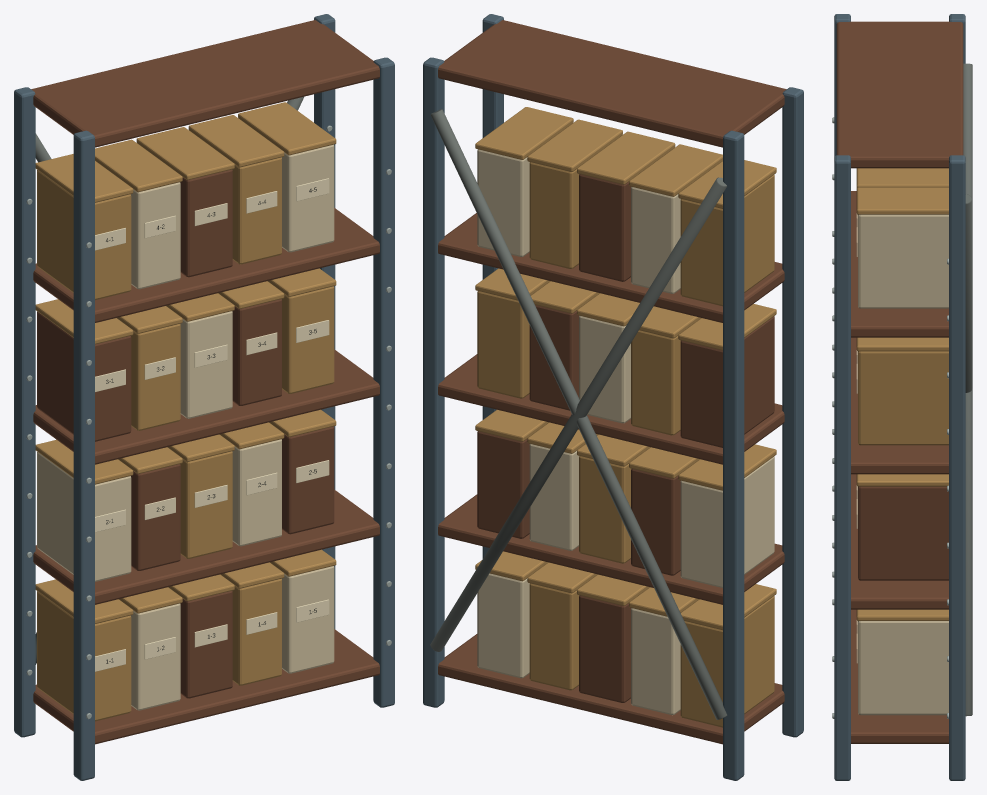
File: ArchiveShelving.fbx
3 renders of one model, left to right at view 1: azimuth 30°, elevation 25°; view 2: azimuth 150°, elevation 25°; view 3: azimuth 270°, elevation 25°, orthographic. The views are drawn at different scales.
Parts seen in each view (by area): view 1: Shelf plank.004, Angle iron upright, Angle iron upright.001, Angle iron upright.002, Shelf plank, Shelf plank.001, Shelf plank.002, Shelf plank.003, Archive carton.005, Archive carton.010, Archive carton, Archive carton.015 (+37 smaller); view 2: Shelf plank.004, Angle iron upright.001, Angle iron upright, Angle iron upright.003, Diagonal back brace, Diagonal back brace.001, Archive carton.005, Archive carton.010, Archive carton.015, Shelf plank, Shelf plank.002, Archive carton (+39 smaller); view 3: Shelf plank.004, Angle iron upright.003, Angle iron upright.002, Archive carton.019, Archive carton.004, Archive carton.009, Archive carton.014, Diagonal back brace.001, Shelf plank.003, Shelf plank.002, Shelf plank.001, Shelf plank (+7 smaller).
Part boxes in pixels (x1,y1,x2,y2): Shelf plank.004: [31, 20, 379, 147]; Angle iron upright: [73, 130, 94, 780]; Angle iron upright.001: [14, 87, 35, 737]; Angle iron upright.002: [373, 57, 394, 707]; Shelf plank: [33, 629, 379, 744]; Shelf plank.001: [33, 489, 379, 604]; Shelf plank.002: [33, 349, 379, 464]; Shelf plank.003: [33, 208, 379, 322]; Archive carton.005: [37, 452, 131, 581]; Archive carton.010: [37, 311, 131, 441]; Archive carton: [37, 591, 131, 721]; Archive carton.015: [37, 170, 131, 300]; Shelf plank.004: [438, 20, 786, 147]; Angle iron upright.001: [723, 130, 744, 780]; Angle iron upright: [782, 87, 803, 737]; Angle iron upright.003: [423, 57, 444, 707]; Diagonal back brace: [430, 109, 727, 719]; Diagonal back brace.001: [430, 177, 726, 651]; Archive carton.005: [680, 456, 774, 587]; Archive carton.010: [680, 316, 774, 447]; Archive carton.015: [680, 174, 774, 306]; Shelf plank: [438, 634, 784, 744]; Shelf plank.002: [438, 354, 784, 464]; Archive carton: [680, 596, 774, 727]; Shelf plank.004: [836, 21, 963, 168]; Angle iron upright.003: [949, 155, 965, 780]; Angle iron upright.002: [834, 155, 850, 780]; Archive carton.019: [858, 214, 948, 308]; Archive carton.004: [858, 621, 948, 715]; Archive carton.009: [858, 486, 948, 580]; Archive carton.014: [858, 351, 948, 445]; Diagonal back brace.001: [963, 63, 972, 716]; Shelf plank.003: [851, 191, 948, 337]; Shelf plank.002: [851, 337, 948, 474]; Shelf plank.001: [851, 474, 948, 609]; Shelf plank: [851, 609, 948, 743].
Bounding box in the file's own units: 0.924 × 1.8 × 0.369.
